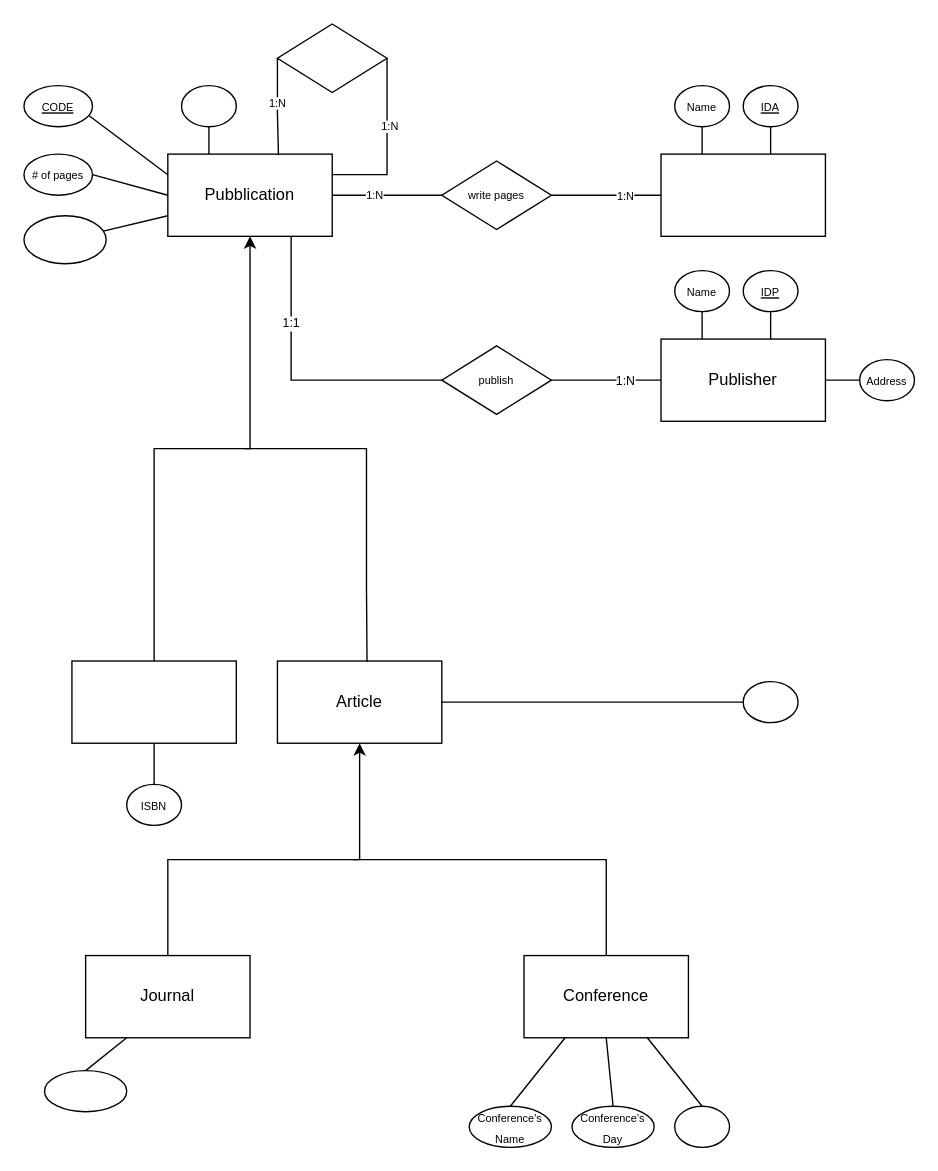
Some shapes in this 938 by 1171 pixel diagram are drawn without their labels. The shapes that lost their labels are listed below. From the top down, each one's centre as x and y in pixels, then its label:
At point 331,57: "references".
At point 208,105: "Title".
At point 742,194: "Author".
At point 64,239: "Pubblication's Date".
At point 153,701: "Book".
At point 770,701: "DOI".
At point 85,1090: "Newspaper's Name".
At point 701,1126: "Place".
